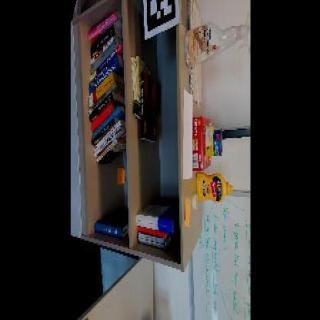book-spine: (83, 53, 124, 95), (86, 43, 124, 81), (86, 36, 122, 74), (82, 72, 118, 107), (90, 105, 122, 140), (83, 10, 120, 40), (85, 25, 118, 57), (90, 120, 122, 152), (86, 82, 118, 114), (91, 126, 122, 157), (85, 92, 115, 122), (88, 34, 117, 64), (134, 214, 175, 234), (89, 118, 116, 145), (87, 104, 115, 130), (93, 139, 118, 163), (92, 223, 123, 239), (135, 226, 166, 238), (136, 238, 166, 249), (136, 233, 165, 244), (140, 72, 144, 139), (133, 56, 137, 114), (130, 57, 135, 102), (134, 115, 136, 119)
